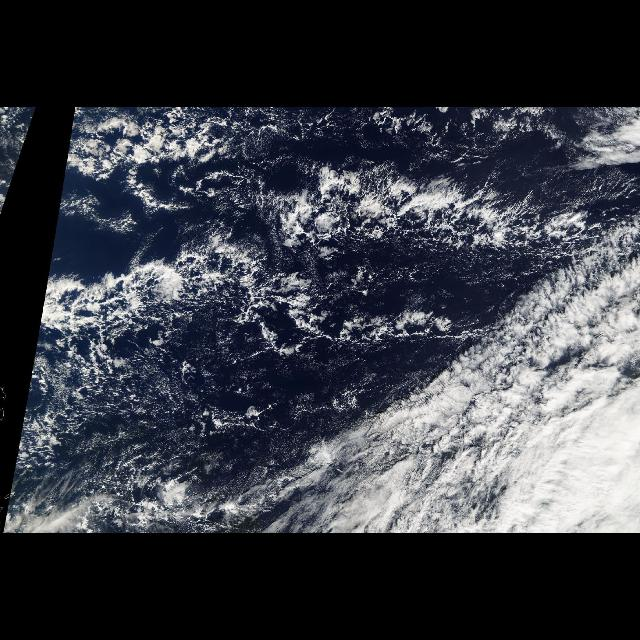Fish: (41, 222, 346, 350)
Gravel: (37, 107, 603, 340), (44, 350, 216, 462), (0, 107, 36, 179)
Sugar: (18, 339, 278, 505), (307, 377, 528, 533)
